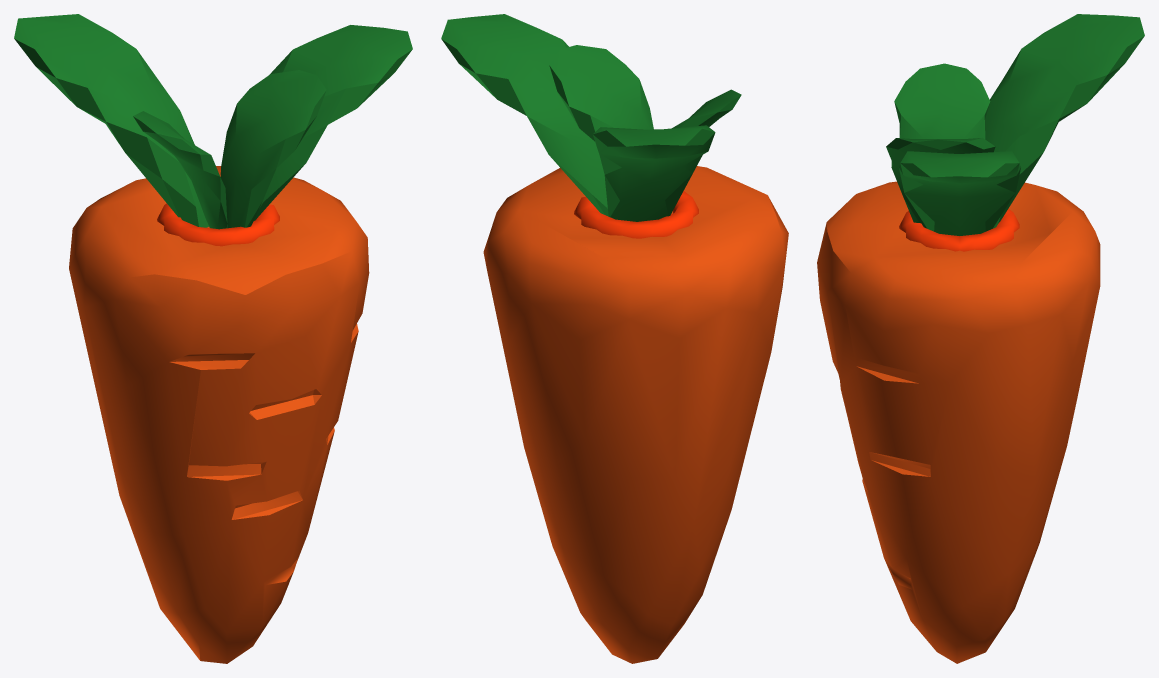
File: carrot.fbx
The picture shows the model from 3 angles, left to right: view 1: azimuth 30°, elevation 25°; view 2: azimuth 150°, elevation 25°; view 3: azimuth 270°, elevation 25°; orthographic projection. The views are drawn at different scales.
Parts seen in each view (by area): view 1: Cube.001, Cube.004, Cube.002, Cube, Cube.003, Torus; view 2: Cube.001, Cube, Cube.004, Cube.002, Torus, Cube.003; view 3: Cube.001, Cube.004, Cube, Cube.003, Torus, Cube.002.
Part boxes in pixels (box(x1,y1,x2,y2)): Cube.001: box(69, 166, 369, 663); Cube.004: box(14, 14, 208, 227); Cube.002: box(220, 70, 326, 228); Cube: box(254, 25, 412, 220); Cube.003: box(133, 111, 227, 229); Torus: box(157, 203, 279, 246); Cube.001: box(483, 166, 788, 663); Cube: box(441, 14, 608, 216); Cube.004: box(593, 125, 715, 221); Cube.002: box(549, 45, 653, 141); Torus: box(574, 191, 698, 238); Cube.003: box(672, 89, 741, 128); Cube.001: box(817, 181, 1100, 663); Cube.004: box(985, 14, 1144, 228); Cube: box(898, 151, 1020, 235); Cube.003: box(894, 63, 990, 138); Torus: box(899, 209, 1019, 251); Cube.002: box(886, 138, 995, 228).
Bounding box in the file's own units: 97.43 × 178 × 89.87.
